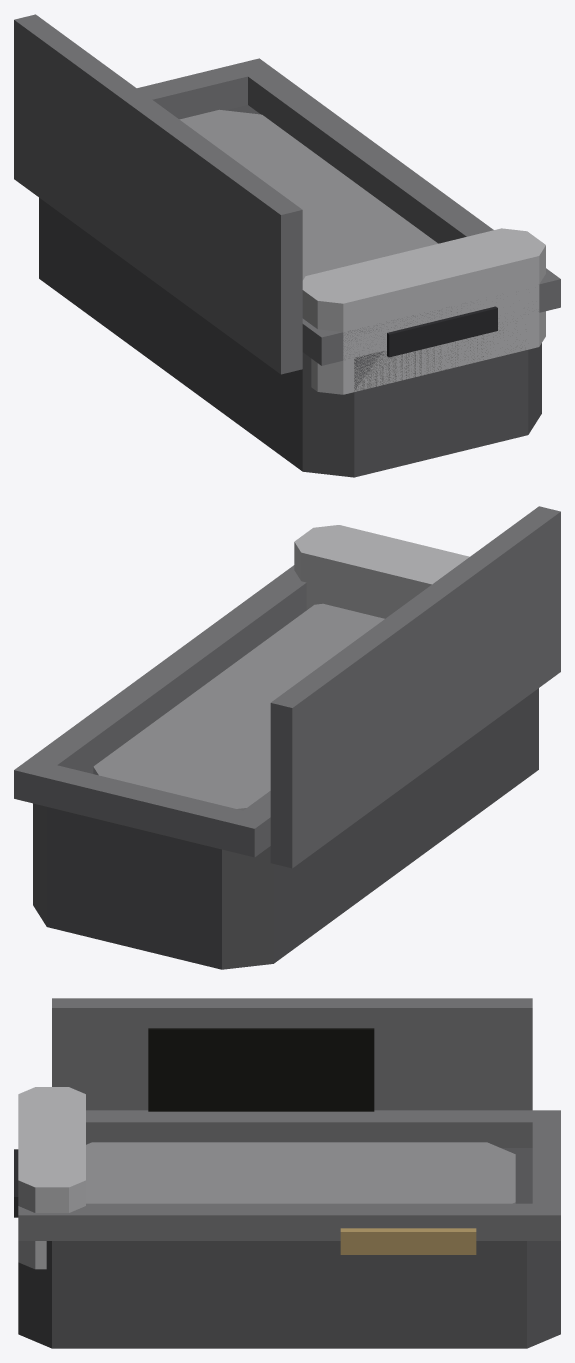
Rendered from ship_casket_b8_open.obj.
The picture shows the model from 3 angles, top to bottom: view 1: azimuth 30°, elevation 25°; view 2: azimuth 150°, elevation 25°; view 3: azimuth 270°, elevation 25°; orthographic projection. The views are drawn at different scales.
Visible parts, largest first — view 1: ship_casket_b8_open_10, ship_casket_b8_open_0, ship_casket_b8_open_1, ship_casket_b8_open_9, ship_casket_b8_open_8, ship_casket_b8_open_6, ship_casket_b8_open_2, ship_casket_b8_open_5; view 2: ship_casket_b8_open_10, ship_casket_b8_open_0, ship_casket_b8_open_9, ship_casket_b8_open_8, ship_casket_b8_open_6, ship_casket_b8_open_1; view 3: ship_casket_b8_open_0, ship_casket_b8_open_10, ship_casket_b8_open_9, ship_casket_b8_open_11, ship_casket_b8_open_8, ship_casket_b8_open_7, ship_casket_b8_open_1, ship_casket_b8_open_6, ship_casket_b8_open_4, ship_casket_b8_open_5.
Boxes of the visible parts, x1,y1,x2,y2 form: ship_casket_b8_open_10: (14,14,302,374); ship_casket_b8_open_0: (39,105,541,477); ship_casket_b8_open_1: (302,228,545,394); ship_casket_b8_open_9: (179,109,437,280); ship_casket_b8_open_8: (248,70,493,243); ship_casket_b8_open_6: (137,58,274,119); ship_casket_b8_open_2: (387,306,497,357); ship_casket_b8_open_5: (306,268,560,365); ship_casket_b8_open_10: (270,506,560,868); ship_casket_b8_open_0: (33,688,538,969); ship_casket_b8_open_9: (93,603,384,810); ship_casket_b8_open_8: (30,565,306,772); ship_casket_b8_open_6: (14,758,270,857); ship_casket_b8_open_1: (294,525,469,618); ship_casket_b8_open_0: (18,1148,560,1348); ship_casket_b8_open_10: (52,998,532,1110); ship_casket_b8_open_9: (86,1142,515,1203); ship_casket_b8_open_11: (148,1028,374,1111); ship_casket_b8_open_8: (46,1203,532,1240); ship_casket_b8_open_7: (86,1110,532,1147); ship_casket_b8_open_1: (18,1087,85,1269); ship_casket_b8_open_6: (532,1110,560,1240); ship_casket_b8_open_4: (340,1228,476,1254); ship_casket_b8_open_5: (18,1206,46,1240).
Size of the model in its own units: 0.99 by 0.92 by 1.94.
